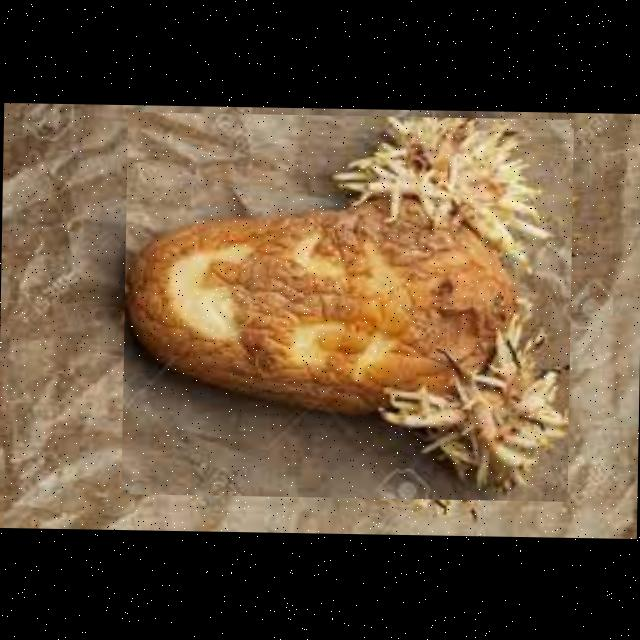Sprouted potato: (121, 110, 574, 500)
